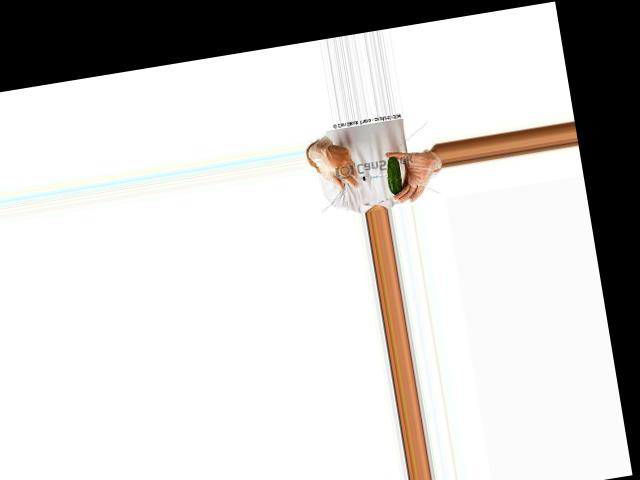cucumber: (385, 155, 405, 195)
